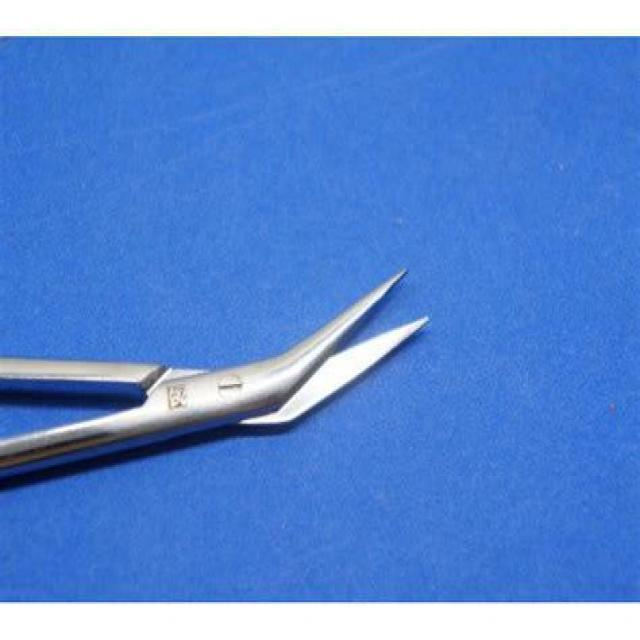Potts: (7, 258, 435, 490)
